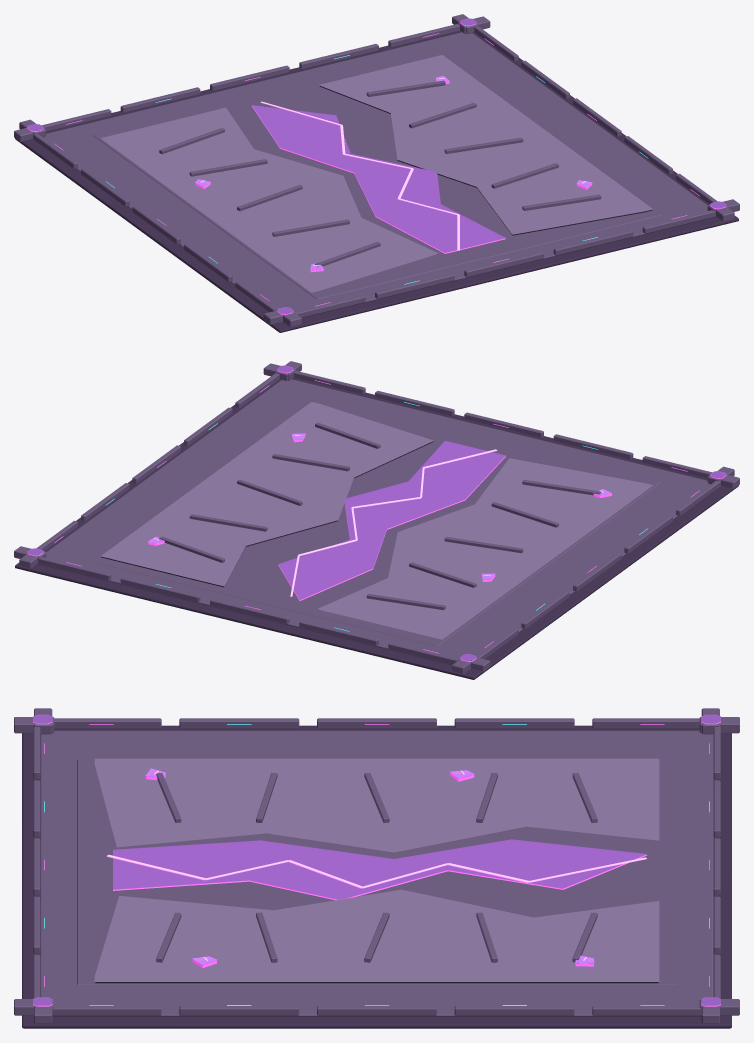
The model's file is sector_2_fracture_hall.glb.
3 views of the same model, one above another, from view 1: azimuth 30°, elevation 25°; view 2: azimuth 150°, elevation 25°; view 3: azimuth 270°, elevation 25° (orthographic). The views are drawn at different scales.
Visible parts, largest first — view 1: FractureHallContinuousGraphiteFloorBed, FractureHallLeftSplitFloorPlate, FractureHallRightSplitFloorPlate, FractureHallLongHallFoundation, FractureHallCentralBrokenGlassPath, FractureHallDarkRiftUndertray, Sector2HR3NorthReferenceRaisedBoundaryRail3.001, Sector2HR3SouthReferenceRaisedBoundaryRail1.001, Sector2HR3SouthReferenceRaisedBoundaryRail2.001, Sector2HR3NorthReferenceRaisedBoundaryRail1.001, Sector2HR3NorthReferenceRaisedBoundaryRail2.001, Sector2HR3SouthReferenceRaisedBoundaryRail3.001 (+4 smaller); view 2: FractureHallContinuousGraphiteFloorBed, FractureHallLeftSplitFloorPlate, FractureHallRightSplitFloorPlate, FractureHallLongHallFoundation, FractureHallCentralBrokenGlassPath, FractureHallDarkRiftUndertray, Sector2HR3NorthReferenceRaisedBoundaryRail1.001, Sector2HR3SouthReferenceRaisedBoundaryRail3.001, Sector2HR3NorthReferenceRaisedBoundaryRail2.001, Sector2HR3SouthReferenceRaisedBoundaryRail1.001, Sector2HR3SouthReferenceRaisedBoundaryRail2.001, Sector2HR3NorthReferenceRaisedBoundaryRail3.001 (+4 smaller); view 3: FractureHallContinuousGraphiteFloorBed, FractureHallLeftSplitFloorPlate, FractureHallRightSplitFloorPlate, FractureHallLongHallFoundation, FractureHallCentralBrokenGlassPath, FractureHallDarkRiftUndertray, Sector2HR3WestReferenceRaisedBoundaryRail1.001, Sector2HR3WestReferenceRaisedBoundaryRail3.001, Sector2HR3WestReferenceRaisedBoundaryRail2.001, Sector2HR3EastReferenceRaisedBoundaryRail1.001, Sector2HR3EastReferenceRaisedBoundaryRail3.001, Sector2HR3EastReferenceRaisedBoundaryRail2.001 (+4 smaller).
Part boxes in pixels (x1=…): FractureHallContinuousGraphiteFloorBed: x1=43, y1=32, x2=716, y2=317; FractureHallLeftSplitFloorPlate: x1=100, y1=107, x2=438, y2=292; FractureHallRightSplitFloorPlate: x1=319, y1=55, x2=652, y2=235; FractureHallLongHallFoundation: x1=93, y1=51, x2=660, y2=299; FractureHallCentralBrokenGlassPath: x1=252, y1=105, x2=505, y2=253; FractureHallDarkRiftUndertray: x1=15, y1=31, x2=738, y2=332; Sector2HR3NorthReferenceRaisedBoundaryRail3.001: x1=553, y1=230, x2=633, y2=255; Sector2HR3SouthReferenceRaisedBoundaryRail1.001: x1=120, y1=87, x2=200, y2=112; Sector2HR3SouthReferenceRaisedBoundaryRail2.001: x1=210, y1=65, x2=289, y2=91; Sector2HR3NorthReferenceRaisedBoundaryRail1.001: x1=375, y1=273, x2=454, y2=298; Sector2HR3NorthReferenceRaisedBoundaryRail2.001: x1=464, y1=251, x2=543, y2=277; Sector2HR3SouthReferenceRaisedBoundaryRail3.001: x1=299, y1=44, x2=378, y2=69; FractureHallContinuousGraphiteFloorBed: x1=37, y1=379, x2=710, y2=664; FractureHallLeftSplitFloorPlate: x1=317, y1=458, x2=653, y2=639; FractureHallRightSplitFloorPlate: x1=101, y1=402, x2=433, y2=587; FractureHallLongHallFoundation: x1=93, y1=398, x2=660, y2=646; FractureHallCentralBrokenGlassPath: x1=278, y1=440, x2=505, y2=600; FractureHallDarkRiftUndertray: x1=15, y1=378, x2=738, y2=679; Sector2HR3NorthReferenceRaisedBoundaryRail1.001: x1=553, y1=434, x2=633, y2=459; Sector2HR3SouthReferenceRaisedBoundaryRail3.001: x1=120, y1=577, x2=200, y2=602; Sector2HR3NorthReferenceRaisedBoundaryRail2.001: x1=464, y1=412, x2=543, y2=438; Sector2HR3SouthReferenceRaisedBoundaryRail1.001: x1=299, y1=620, x2=378, y2=645; Sector2HR3SouthReferenceRaisedBoundaryRail2.001: x1=210, y1=598, x2=289, y2=624; Sector2HR3NorthReferenceRaisedBoundaryRail3.001: x1=375, y1=391, x2=454, y2=416; FractureHallContinuousGraphiteFloorBed: x1=40, y1=730, x2=713, y2=1016; FractureHallLeftSplitFloorPlate: x1=94, y1=758, x2=659, y2=852; FractureHallRightSplitFloorPlate: x1=94, y1=889, x2=659, y2=983; FractureHallLongHallFoundation: x1=77, y1=759, x2=676, y2=984; FractureHallCentralBrokenGlassPath: x1=113, y1=839, x2=646, y2=900; FractureHallDarkRiftUndertray: x1=22, y1=725, x2=731, y2=1028; Sector2HR3WestReferenceRaisedBoundaryRail1.001: x1=179, y1=718, x2=299, y2=728; Sector2HR3WestReferenceRaisedBoundaryRail3.001: x1=454, y1=718, x2=574, y2=728; Sector2HR3WestReferenceRaisedBoundaryRail2.001: x1=317, y1=718, x2=436, y2=728; Sector2HR3EastReferenceRaisedBoundaryRail1.001: x1=179, y1=1006, x2=299, y2=1015; Sector2HR3EastReferenceRaisedBoundaryRail3.001: x1=454, y1=1006, x2=574, y2=1015; Sector2HR3EastReferenceRaisedBoundaryRail2.001: x1=317, y1=1006, x2=436, y2=1015.
Bounding box in the file's own units: 59.3 × 1.71 × 59.3.
